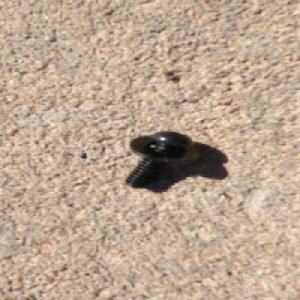BoltWasher: (123, 130, 203, 188)
